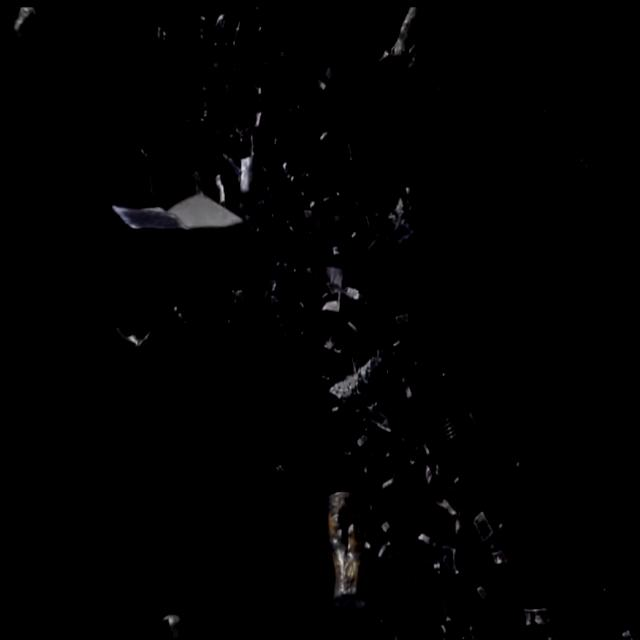large_debris: (306, 304, 412, 446), (99, 162, 249, 260), (312, 465, 376, 615), (380, 0, 445, 86), (366, 175, 428, 254), (461, 494, 515, 578), (308, 253, 369, 319), (108, 308, 156, 368), (517, 597, 581, 640), (8, 4, 46, 48), (437, 406, 467, 455)
